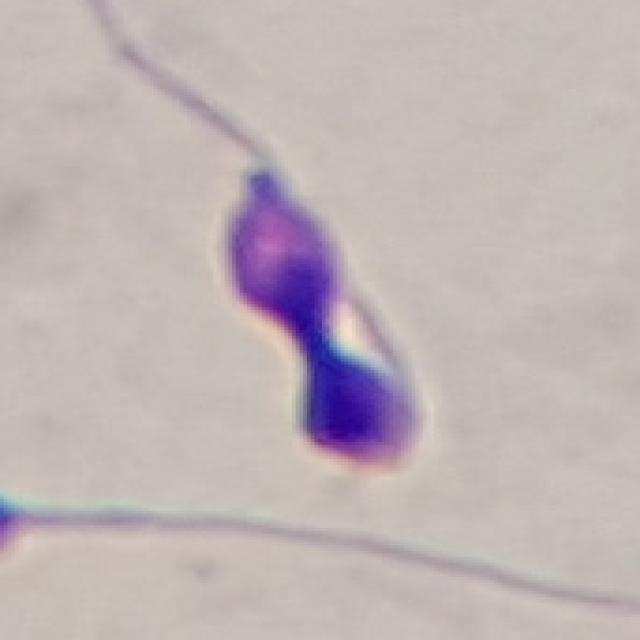abnormal sperm: (112, 41, 470, 470)
